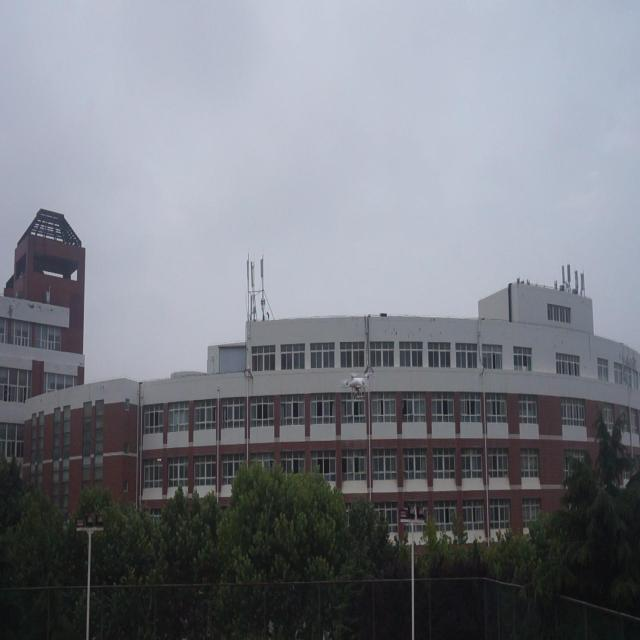drone: (346, 371, 370, 396)
